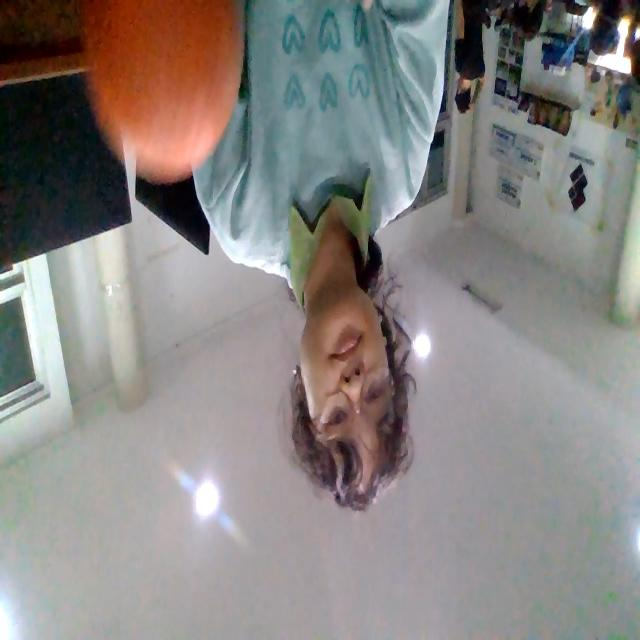ball: (79, 2, 245, 185)
